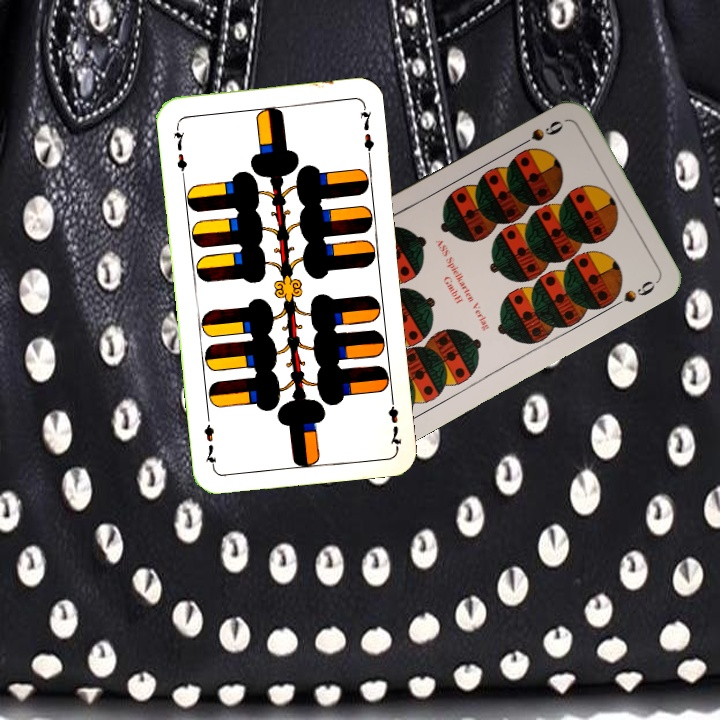E7: (168, 121, 190, 180), (384, 390, 404, 449)
S9: (512, 116, 566, 151)
